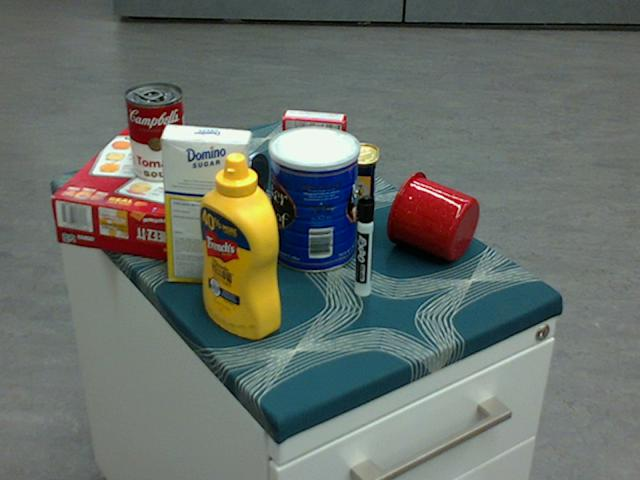cracker_box: (50, 124, 240, 264)
gelatin_box: (282, 110, 346, 167)
large_marker: (356, 195, 374, 297)
master_chef_can: (267, 125, 358, 272)
mug: (386, 170, 479, 260)
mustard_bottle: (200, 152, 279, 339)
potted_meat_can: (296, 141, 377, 218)
sugar_box: (159, 124, 250, 286)
tomato_soup_can: (124, 83, 186, 182)
tuna_fish_can: (212, 144, 266, 215)
